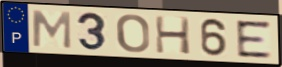3: (73, 11, 110, 53)
6: (199, 17, 229, 58)
E: (233, 19, 274, 59)
H: (153, 14, 193, 56)
M: (31, 9, 74, 51)
O: (115, 13, 152, 54)
